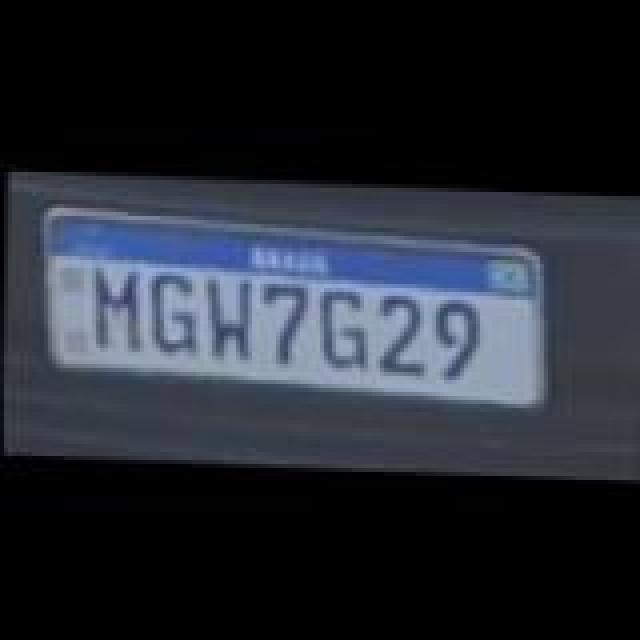2: (374, 286, 438, 370)
7: (256, 276, 316, 356)
9: (428, 294, 488, 374)
G: (310, 278, 374, 366), (138, 262, 202, 350)
M: (88, 262, 148, 346)
W: (200, 272, 260, 356)
